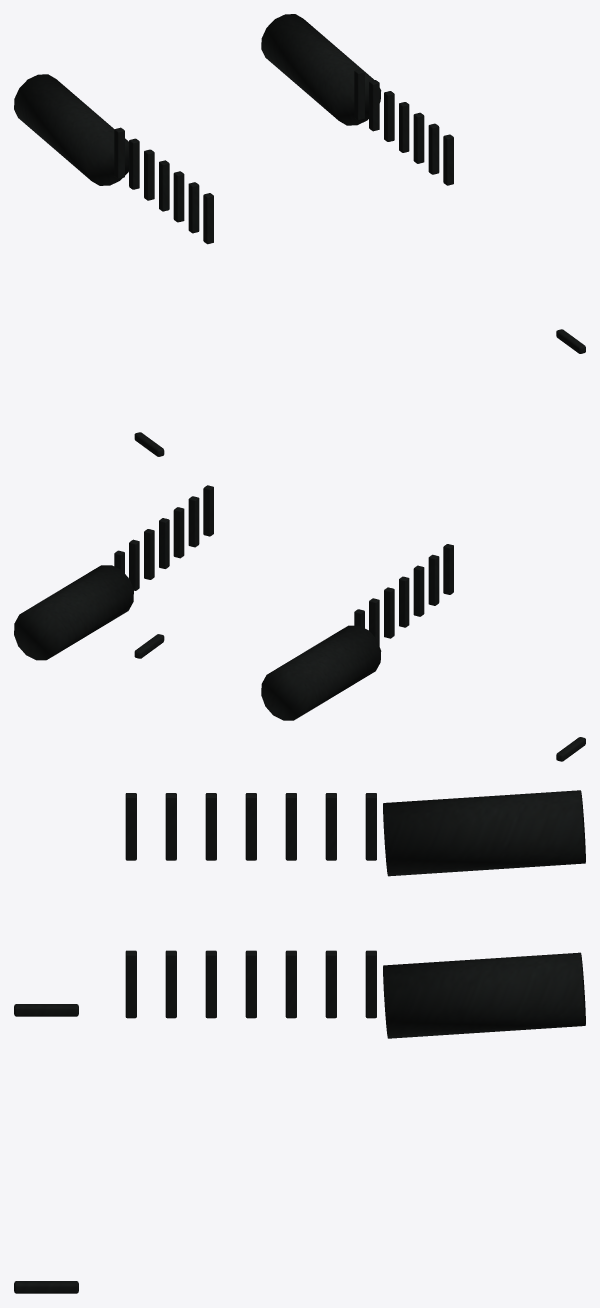
The picture shows the model from 3 angles, top to bottom: view 1: azimuth 30°, elevation 25°; view 2: azimuth 150°, elevation 25°; view 3: azimuth 270°, elevation 25°; orthographic projection. The views are drawn at different scales.
Bounding box in the file's own units: 2.36 × 1.09 × 2.02.
Materials: 1 (1 with a texture image).
